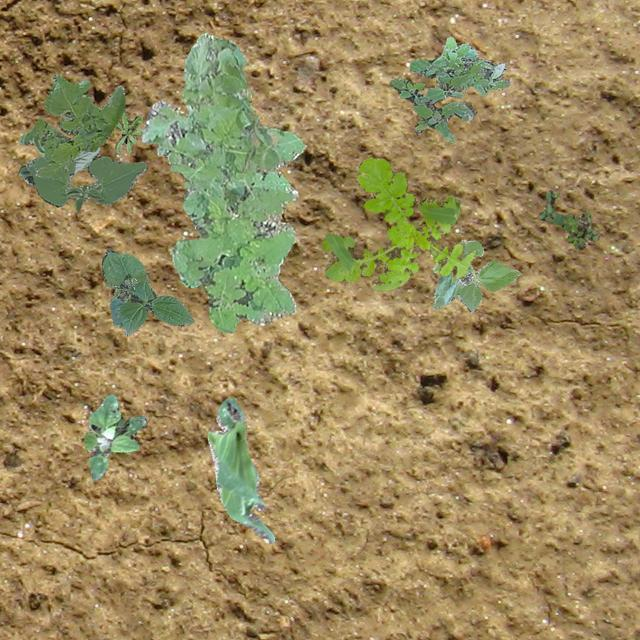crop: (206, 398, 274, 542), (100, 248, 194, 334), (25, 154, 146, 210), (432, 238, 520, 312), (18, 146, 98, 184)
weed: (140, 31, 304, 332), (320, 156, 474, 290), (388, 36, 508, 142), (18, 74, 124, 178), (82, 392, 146, 480), (538, 188, 598, 248), (115, 110, 142, 152)
